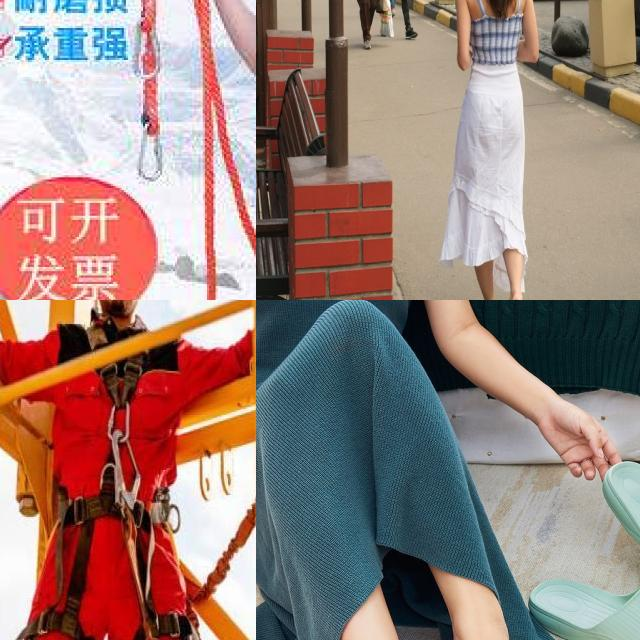Harness: (50, 357, 155, 639)
